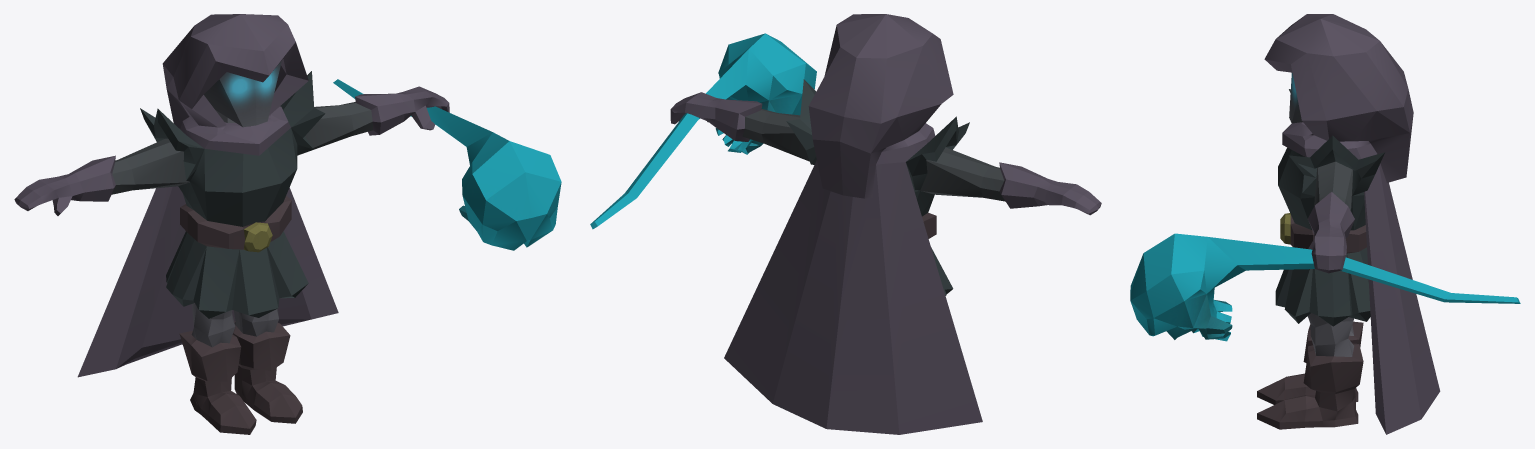
File: zNecroManWithStaff.fbx
The picture shows the model from 3 angles, left to right: view 1: azimuth 30°, elevation 25°; view 2: azimuth 150°, elevation 25°; view 3: azimuth 270°, elevation 25°; orthographic projection.
Parts seen in each view (by area): view 1: NecroMan1; view 2: NecroMan1; view 3: NecroMan1.
Boxes of the visible parts, <box> form: NecroMan1: <box>14,14,561,434</box>; NecroMan1: <box>590,14,1101,434</box>; NecroMan1: <box>1130,14,1520,434</box>.
Size of the model in its own units: 6.84 by 5.64 by 5.1.
